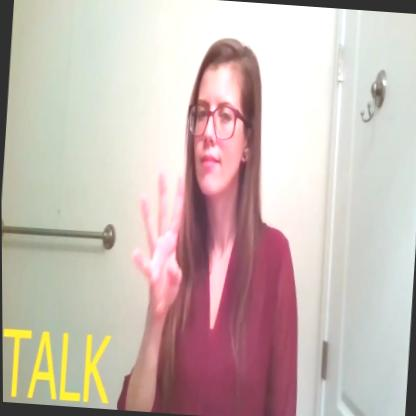Talk: (127, 29, 263, 325)
